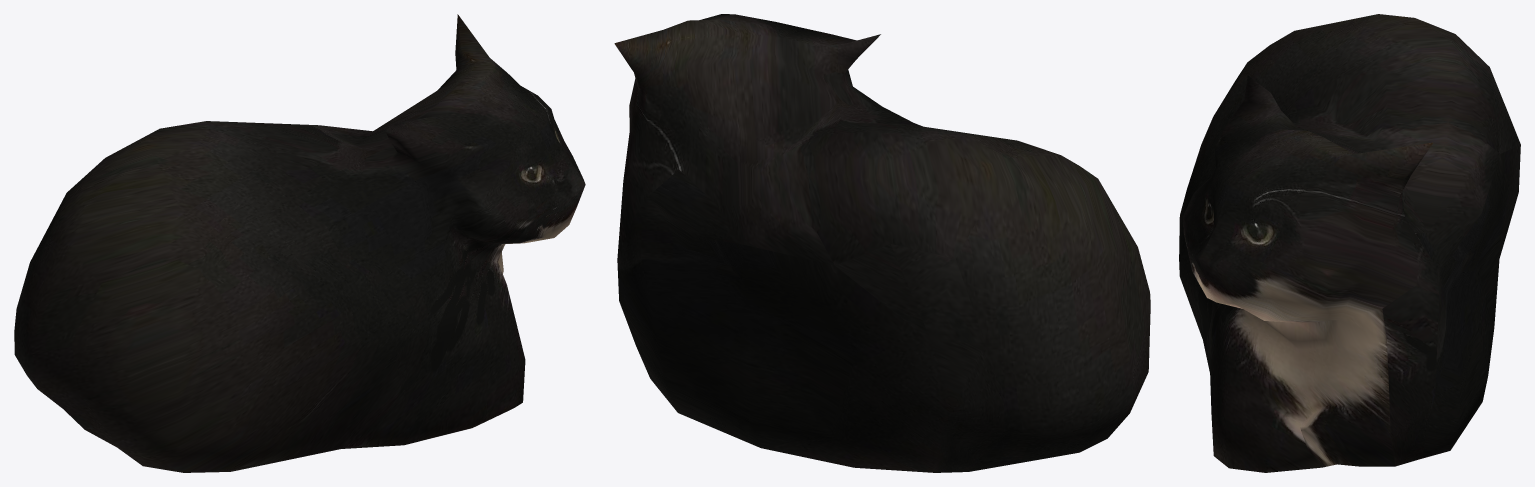
Rendered from cat.glb.
The picture shows the model from 3 angles, left to right: view 1: azimuth 30°, elevation 25°; view 2: azimuth 150°, elevation 25°; view 3: azimuth 270°, elevation 25°; orthographic projection. The views are drawn at different scales.
Parts seen in each view (by area): view 1: dingus; view 2: dingus; view 3: dingus.
Part boxes in pixels (x1,y1,x2,y2): dingus: [14, 14, 585, 472]; dingus: [614, 14, 1150, 472]; dingus: [1179, 14, 1520, 472].
Bounding box in the file's own units: 29.82 × 19.21 × 16.49.
Materials: 1 (1 with a texture image).
